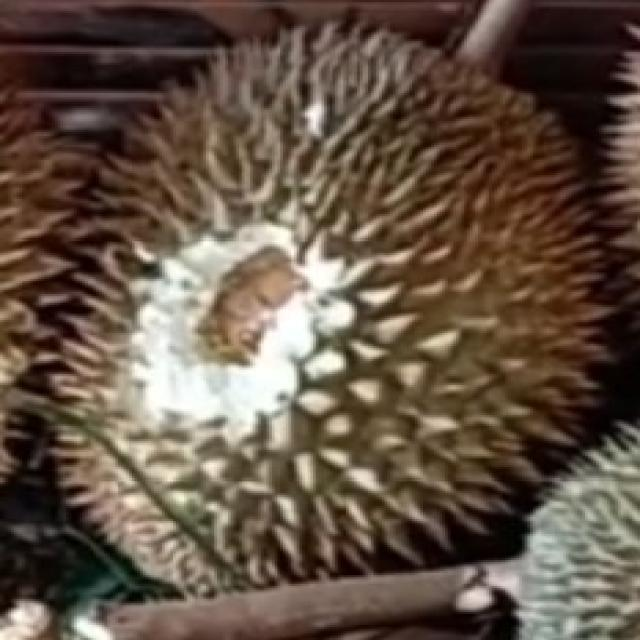defective: (49, 14, 612, 614)
